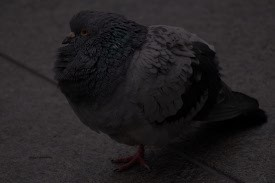pigeon: (50, 9, 264, 176)
